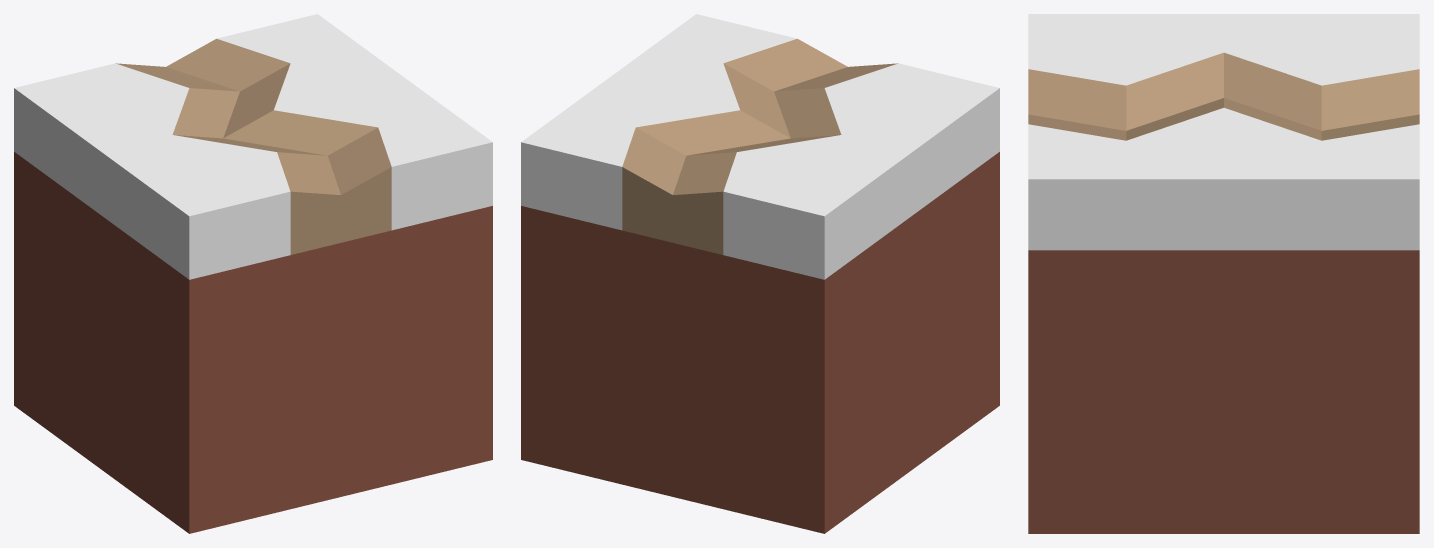
File: Mesh_Ground_Road_Straight.glb
3 views of the same model, side by side, from view 1: azimuth 30°, elevation 25°; view 2: azimuth 150°, elevation 25°; view 3: azimuth 270°, elevation 25° (orthographic). The views are drawn at different scales.
Visible parts, largest first — view 1: Mesh_Ground_Road_Straight; view 2: Mesh_Ground_Road_Straight; view 3: Mesh_Ground_Road_Straight.
Part boxes in pixels (x1,y1,x2,y2): Mesh_Ground_Road_Straight: (14,14,492,533); Mesh_Ground_Road_Straight: (521,14,999,533); Mesh_Ground_Road_Straight: (1028,14,1419,533).
Size of the model in its own units: 2 by 2 by 2.
Materials: 1 (1 with a texture image).
